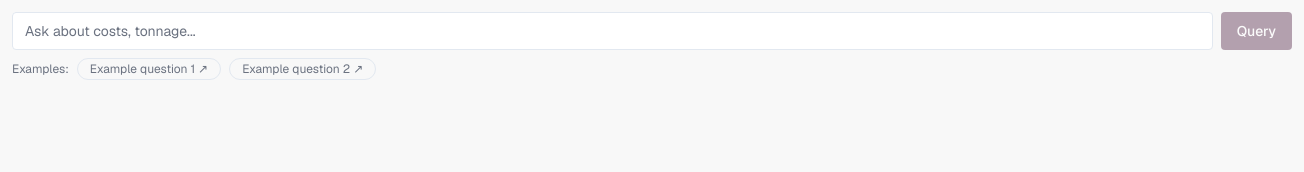
Test: QueryPanel › renders error message when fetch returns error JSON
Type "consulta invalida" into the field with placeholder "Ask about costs, tonnage...".
click(612, 31); type("consulta invalida")  # box [12,12,1213,50]
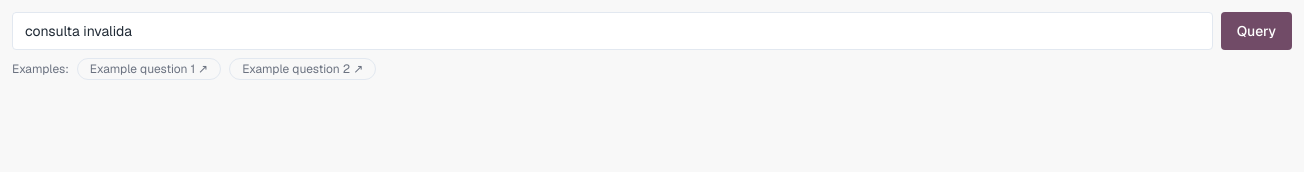
Click the button "Query".
click(1256, 31)  # box [1221,12,1292,50]
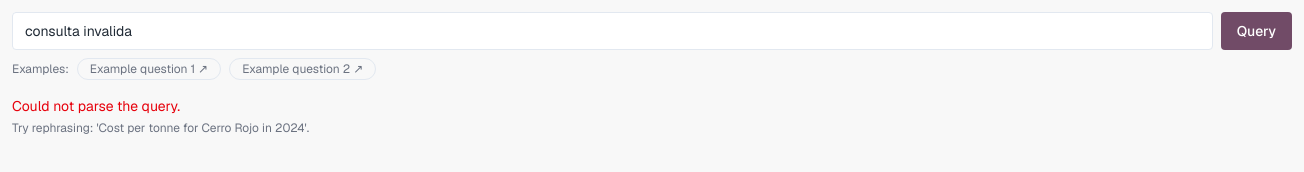
expect the message is shown: met, box [12,97,309,136]
